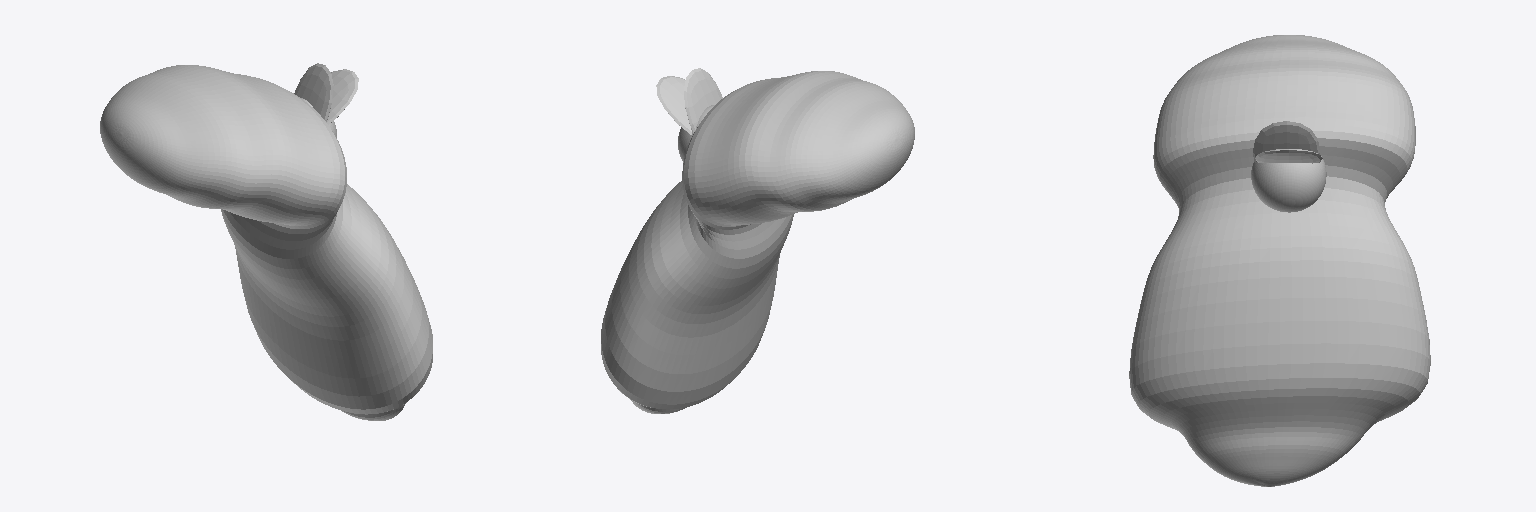
Rendered from Character_Hair.obj.
3 views of the same model, side by side, from view 1: azimuth 30°, elevation 25°; view 2: azimuth 150°, elevation 25°; view 3: azimuth 270°, elevation 25° (orthographic).
Parts seen in each view (by area): view 1: pSphere38; view 2: pSphere38; view 3: pSphere38.
Part boxes in pixels (bbox=[...]): pSphere38: bbox=[100, 63, 432, 420]; pSphere38: bbox=[601, 68, 914, 413]; pSphere38: bbox=[1129, 35, 1430, 486].
Size of the model in its own units: 0.659 by 0.8296 by 0.6403.